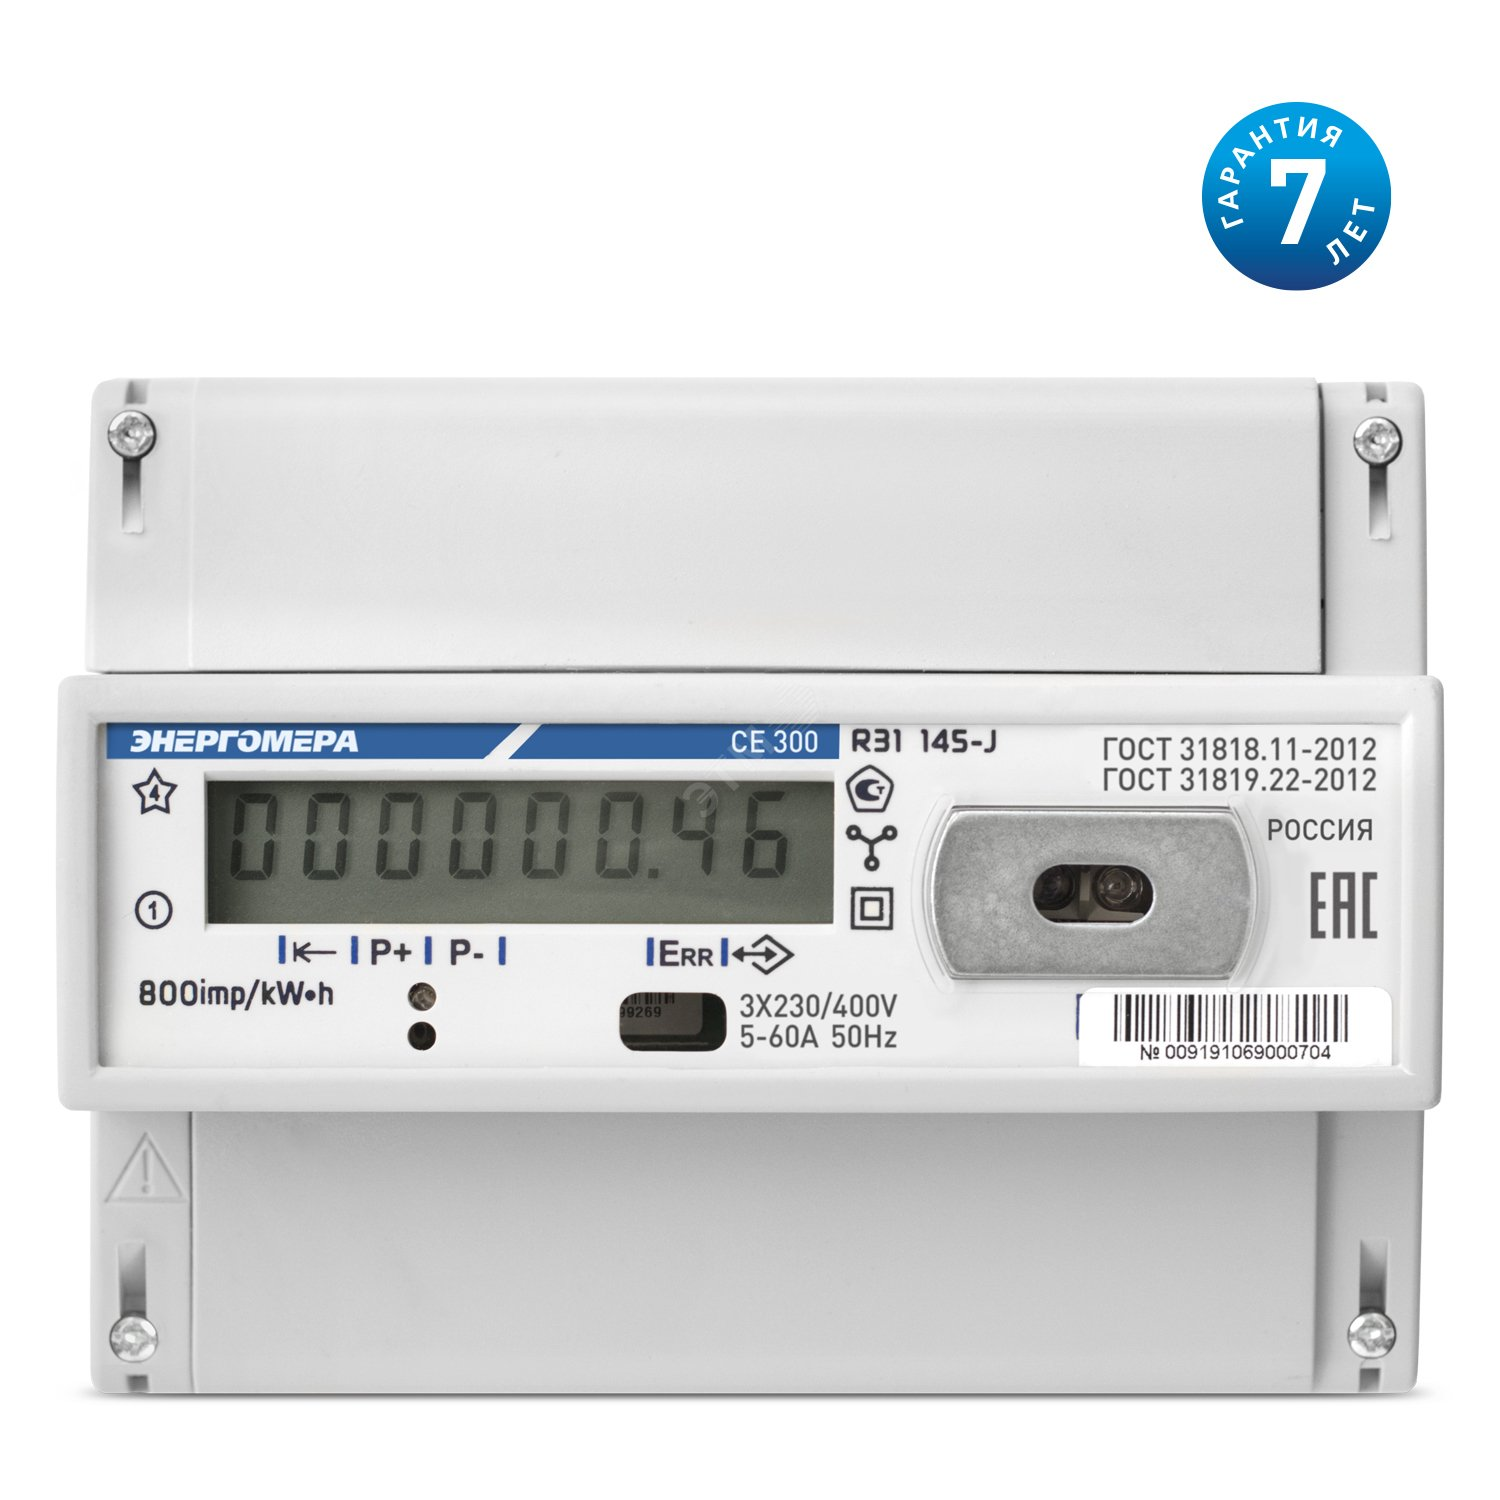counter: (56, 361, 1441, 1407)
counter_screen: (198, 766, 848, 930)
